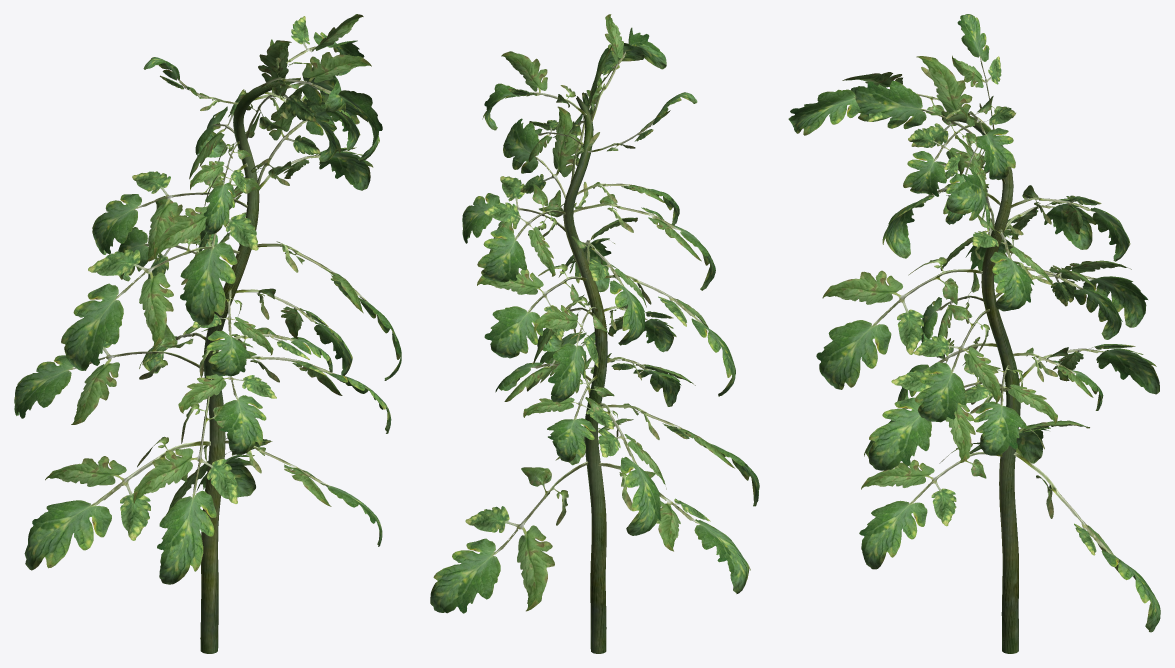
Rendered from tomatoPlant01.fbx.
The picture shows the model from 3 angles, left to right: view 1: azimuth 30°, elevation 25°; view 2: azimuth 150°, elevation 25°; view 3: azimuth 270°, elevation 25°; orthographic projection. The views are drawn at different scales.
Visible parts, largest first — view 1: Tomat2_Stvol; view 2: Tomat2_Stvol; view 3: Tomat2_Stvol.
Boxes of the visible parts, left/top/right/bottom form: Tomat2_Stvol: left=14, top=14, right=401, bottom=653; Tomat2_Stvol: left=430, top=14, right=759, bottom=653; Tomat2_Stvol: left=788, top=14, right=1160, bottom=653.
Size of the model in its own units: 4388 by 8134 by 4502.
